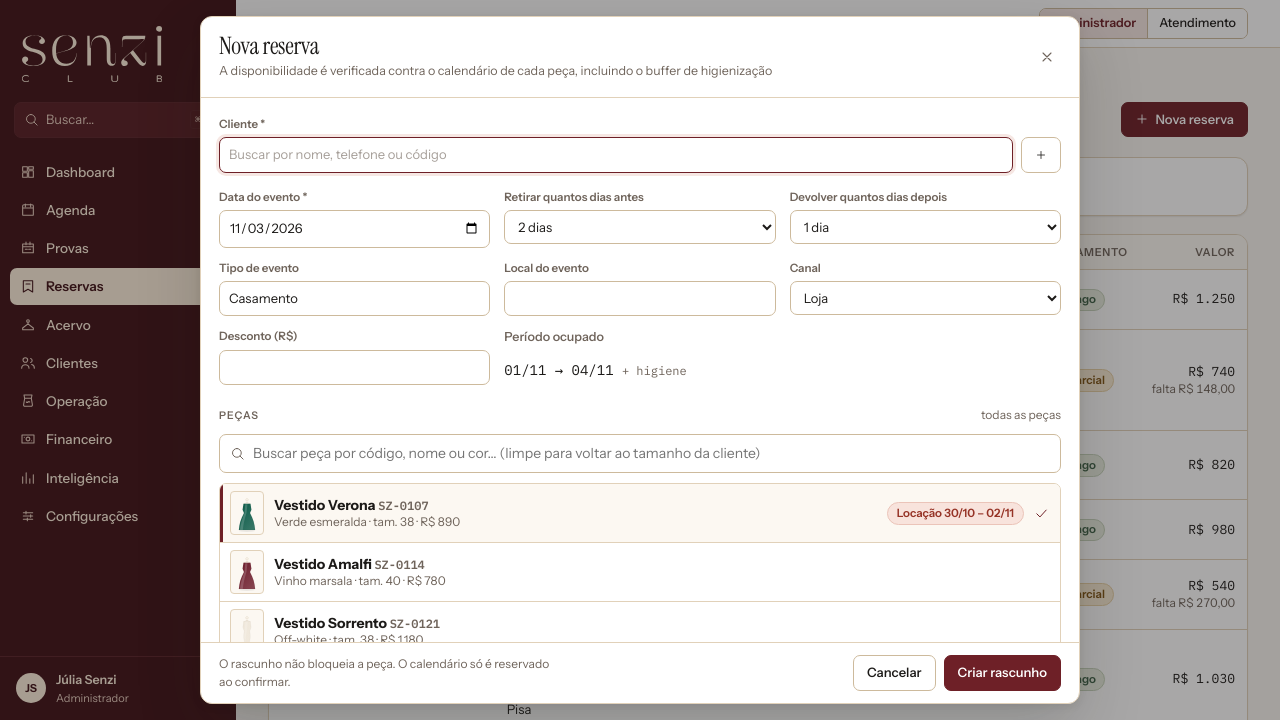
Test: Reservas — nova reserva › sem data do evento: "Informe a data do evento."
The width and height of the screenshot is (1280, 720).
Clear the date field labelled "Data do evento *" at (355, 229), box [219,210,490,248]
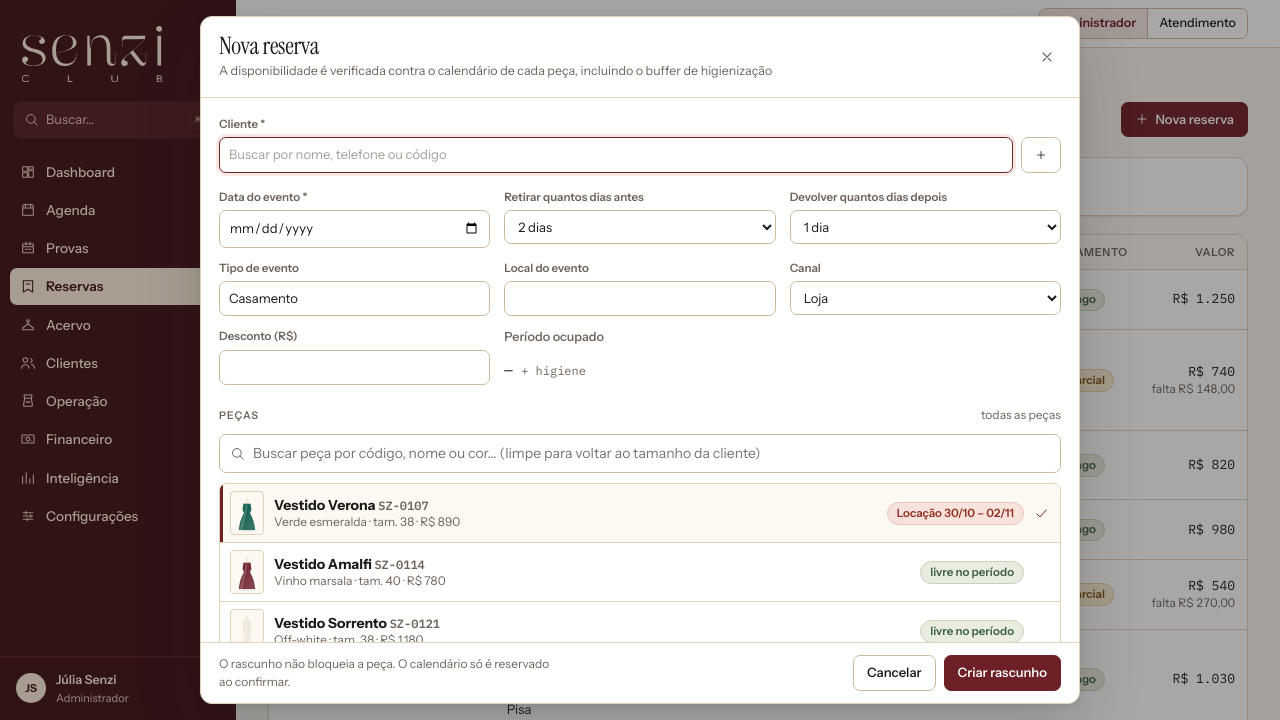
Click the button "Criar rascunho" at (1002, 673), box [944,655,1061,691]
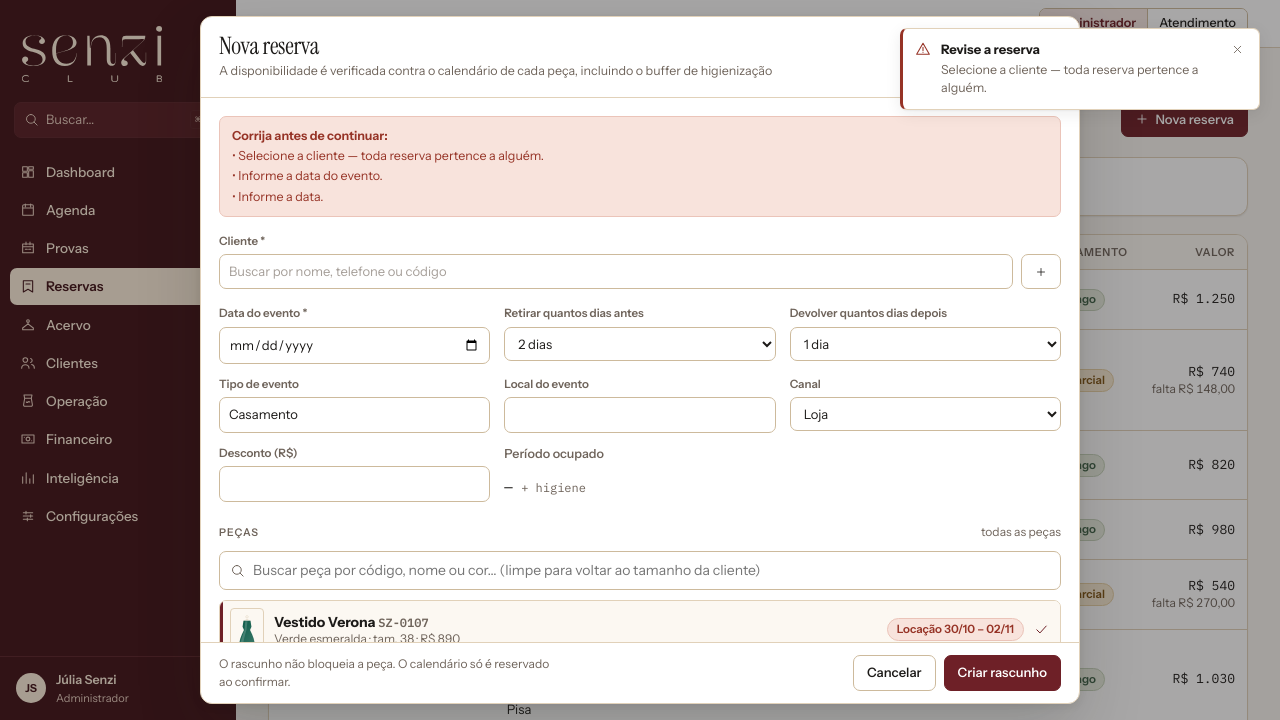
expect the text "• Informe a data do evento." is shown: met, box [232,168,383,183]
